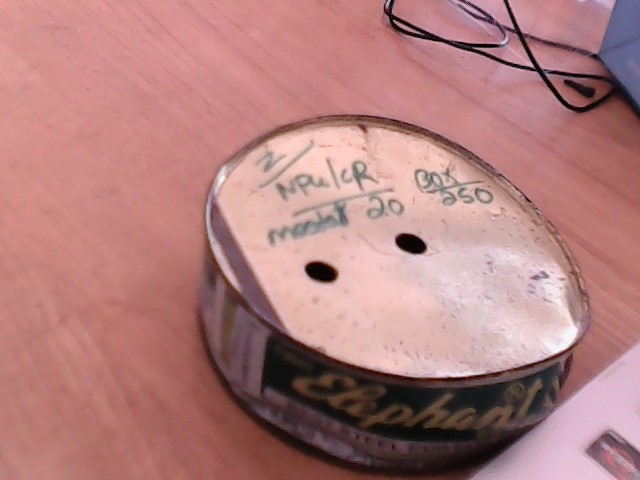Metal: (147, 105, 640, 480)
